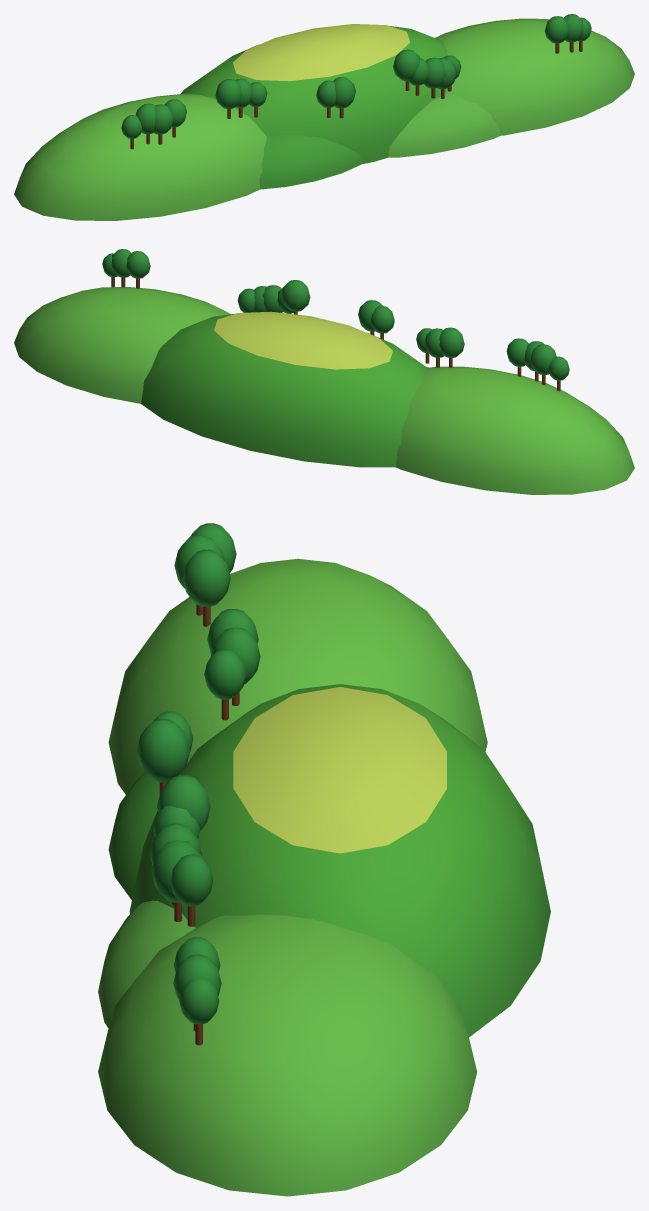
File: hill_far.glb
3 renders of one model, top to bottom at view 1: azimuth 30°, elevation 25°; view 2: azimuth 150°, elevation 25°; view 3: azimuth 270°, elevation 25°, orthographic. The views are drawn at different scales.
Visible parts, largest first — view 1: hill_far; view 2: hill_far; view 3: hill_far.
Boxes of the visible parts, left/top/right/bottom form: hill_far: left=14, top=14, right=634, bottom=220; hill_far: left=14, top=249, right=634, bottom=494; hill_far: left=98, top=523, right=550, bottom=1196.
Size of the model in its own units: 66 by 9.71 by 21.5.
